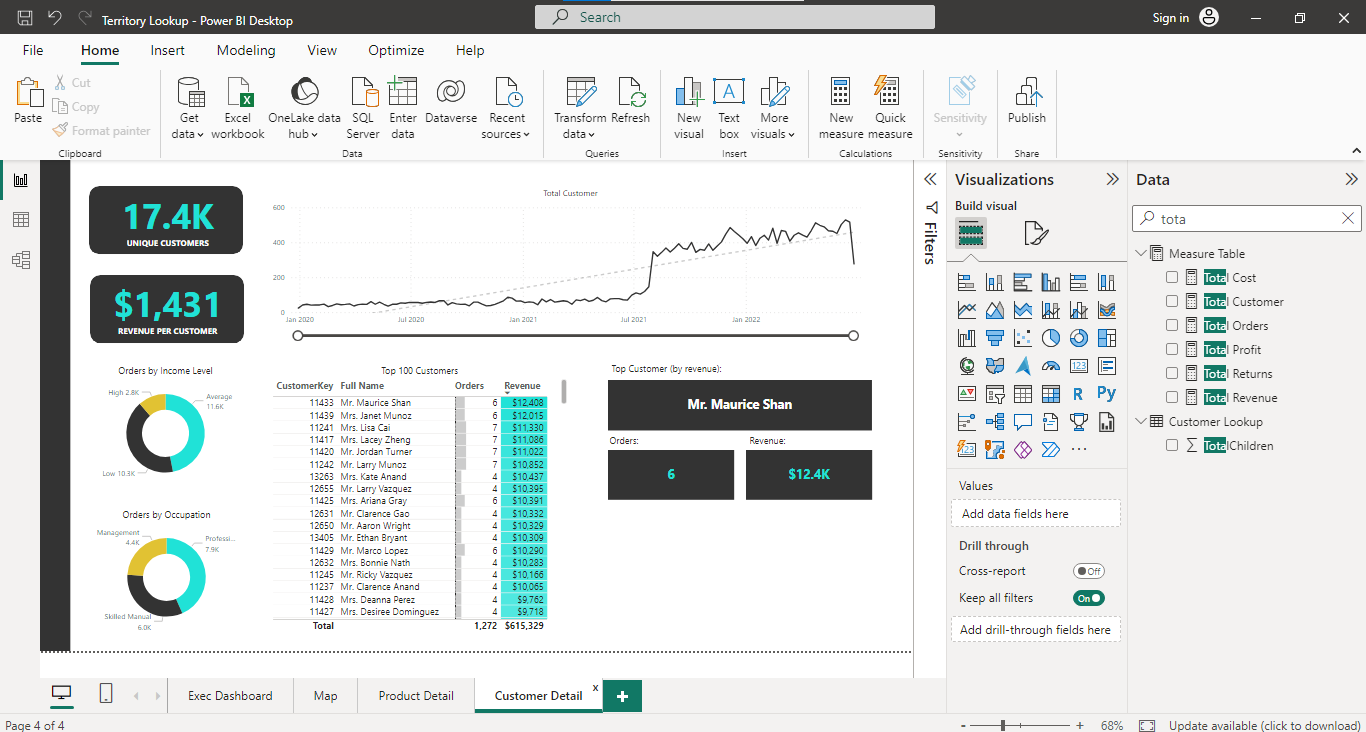

Layout of this report page (visuals, bound fields, positions):
{"tool":"powerbi","page":{"name":"Customer Detail","canvas":[1280,720],"ordinal":3},"visuals":[{"type":"shape","box":[72.2,38.8,226,100],"z":0},{"type":"card","fields":{"Values":["Measure Table.Total Customer"]},"box":[72.8,12.8,228,150],"z":1000},{"type":"shape","box":[73.2,168.3,226,100],"z":2000},{"type":"card","fields":{"Values":["Measure Table.Average Revenue per Customer"]},"box":[73.8,142.3,228,150],"z":3000},{"type":"shape","title":"Left Nav Background","box":[0,0,45,720],"z":4000},{"type":"lineChart","title":"Total Customer","fields":{"Y":["Measure Table.Total Customer"],"Category":["Calendar Lookup.Start of Week.Variation.Date Hierarchy.Year","Calendar Lookup.Start of Week.Variation.Date Hierarchy.Quarter","Calendar Lookup.Start of Week.Variation.Date Hierarchy.Month","Calendar Lookup.Start of Week.Variation.Date Hierarchy.Day"]},"box":[336,39.5,883.8,228.7],"z":5000},{"type":"donutChart","title":"Orders by Income Level","fields":{"Y":["Measure Table.Total Orders"],"Category":["Customer Lookup.Income Level"]},"box":[72,299.3,224.5,186.4],"z":6000},{"type":"donutChart","title":"Orders by Occupation","fields":{"Y":["Measure Table.Total Orders"],"Category":["Customer Lookup.Occupation"]},"box":[73.4,509.6,224.5,186.4],"z":7000},{"type":"tableEx","title":"Top 100 Customers","fields":{"Values":["Customer Lookup.CustomerKey","Customer Lookup.Full Name","Measure Table.Total Orders","Measure Table.Total Revenue"]},"box":[336,299.3,441.9,396.7],"z":8000},{"type":"card","fields":{"Values":["Customer Lookup.Full Name"]},"box":[833.3,321.9,386.6,73.7],"z":9000},{"type":"card","fields":{"Values":["Measure Table.Total Orders"]},"box":[832.8,424.7,185,73.3],"z":10000},{"type":"card","fields":{"Values":["Measure Table.Total Revenue"]},"box":[1035.1,424.7,184.7,73.3],"z":11000},{"type":"textbox","box":[833.3,291.8,188,28.6],"z":12000},{"type":"textbox","box":[829.9,396.9,187.7,27.9],"z":13000},{"type":"textbox","box":[1035.1,396.9,187.7,27.9],"z":14000}]}

Visuals, with their boxes on the page's 1280x720 design canvas (x1, y1, x2, y2). These are canvas units, not pixel positions in the 1366x732 screenshot, which may show the page scaled, cropped or inside an application window:
shape: BBox(72, 39, 298, 139)
card - Measure Table.Total Customer: BBox(73, 13, 301, 163)
shape: BBox(73, 168, 299, 268)
card - Measure Table.Average Revenue per Customer: BBox(74, 142, 302, 292)
"Left Nav Background" shape: BBox(0, 0, 45, 720)
"Total Customer" lineChart: BBox(336, 40, 1220, 268)
"Orders by Income Level" donutChart: BBox(72, 299, 296, 486)
"Orders by Occupation" donutChart: BBox(73, 510, 298, 696)
"Top 100 Customers" tableEx: BBox(336, 299, 778, 696)
card - Customer Lookup.Full Name: BBox(833, 322, 1220, 396)
card - Measure Table.Total Orders: BBox(833, 425, 1018, 498)
card - Measure Table.Total Revenue: BBox(1035, 425, 1220, 498)
textbox: BBox(833, 292, 1021, 320)
textbox: BBox(830, 397, 1018, 425)
textbox: BBox(1035, 397, 1223, 425)
